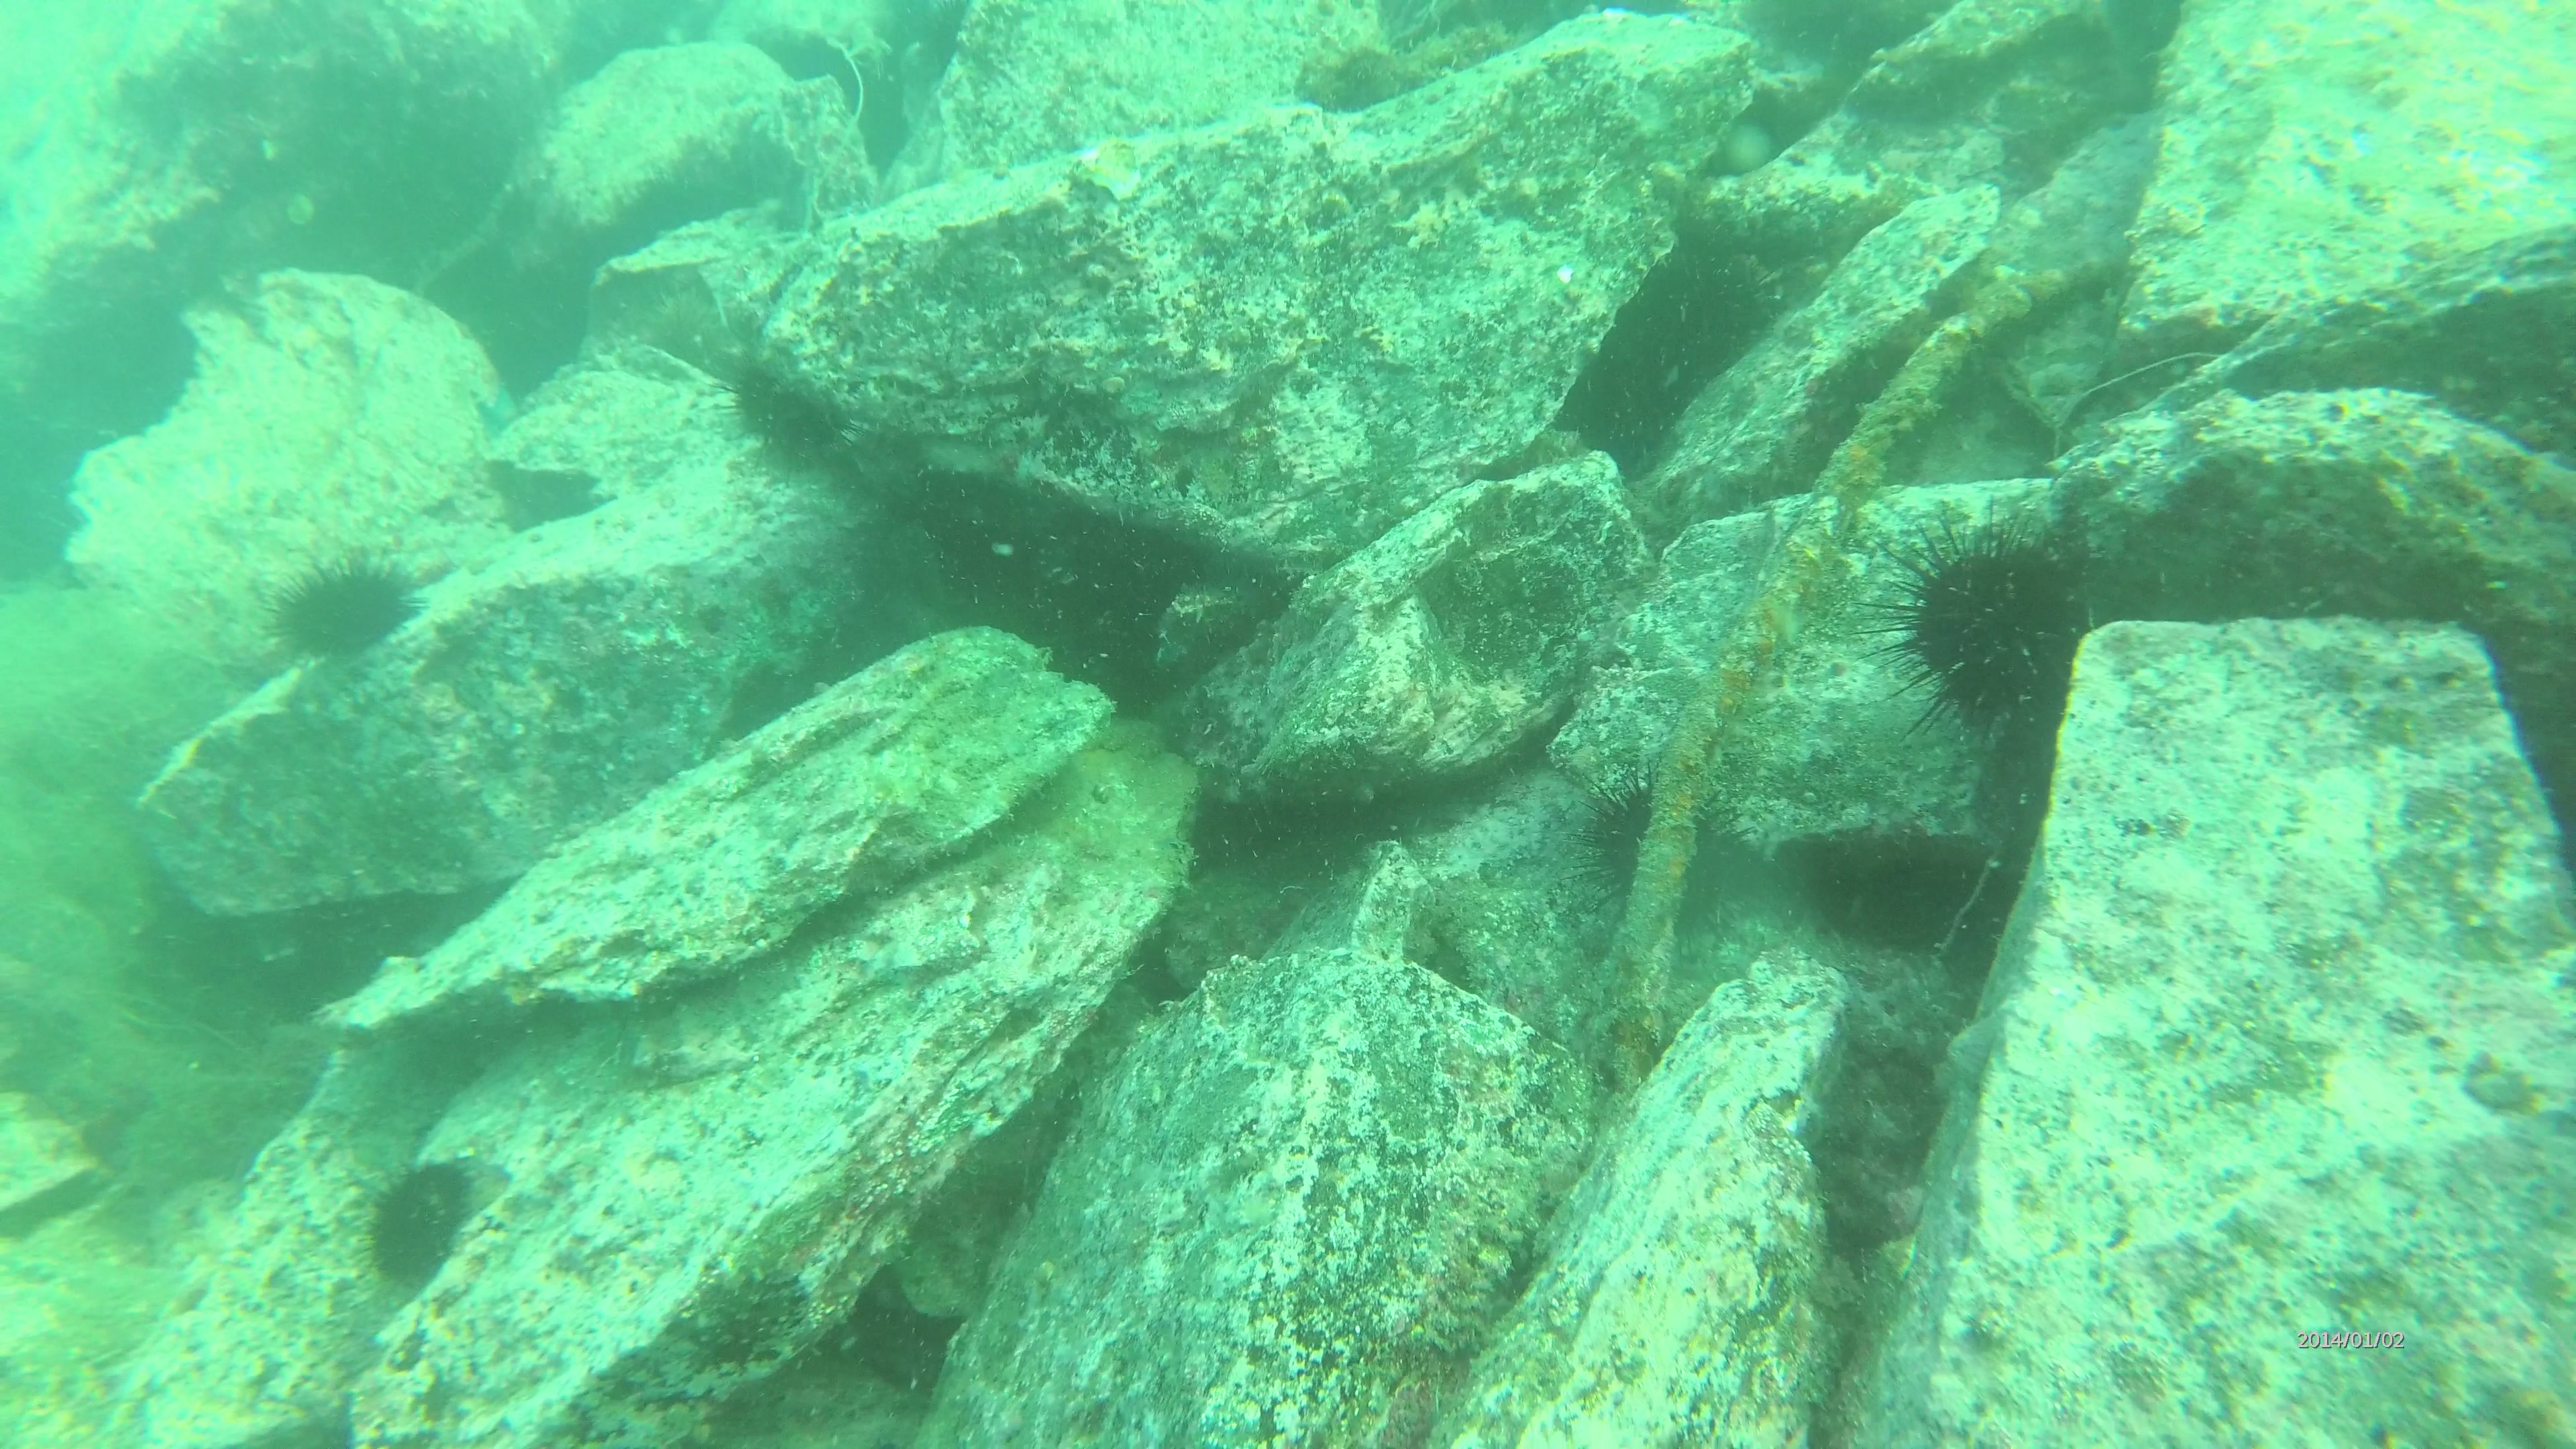echinus: (1865, 497, 2111, 755), (350, 1152, 483, 1304), (274, 554, 430, 678), (706, 354, 849, 479)
